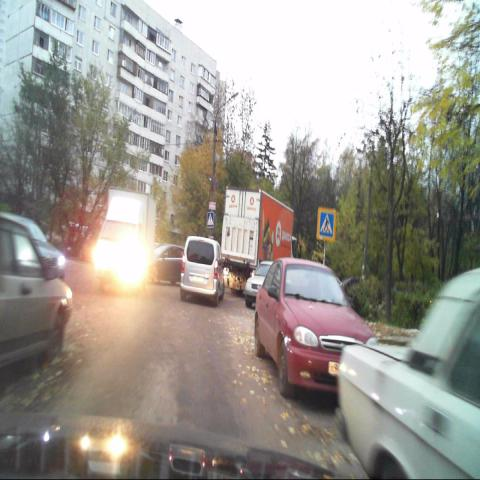5_19_1: (317, 207, 336, 243), (207, 212, 214, 228)
